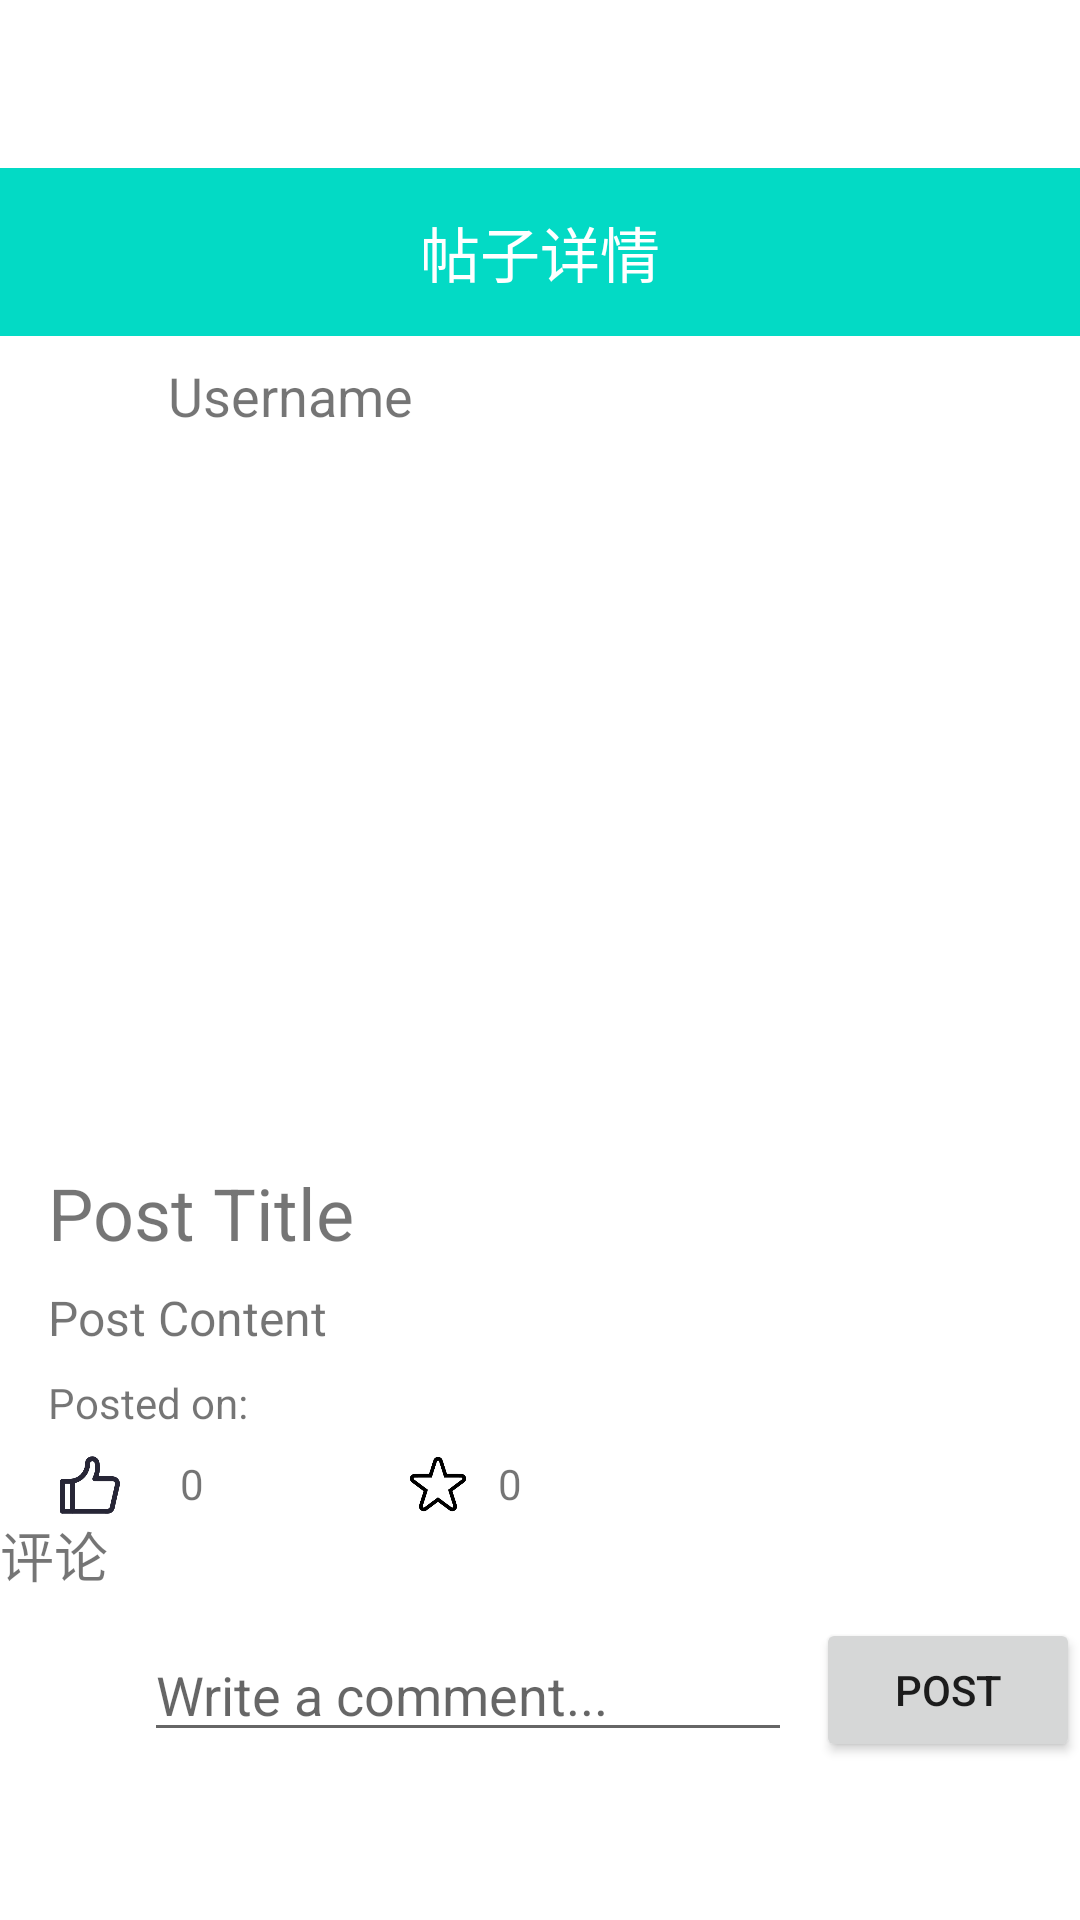

Point at icon controls on the screen. Image size 1080 x 1920, points as point (x, y).
uncollect: point (438, 1484)
unlike: point (90, 1485)
